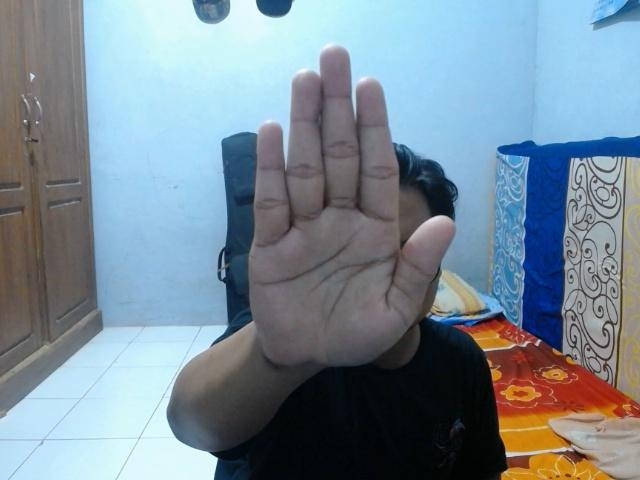Release: (247, 37, 459, 377)
